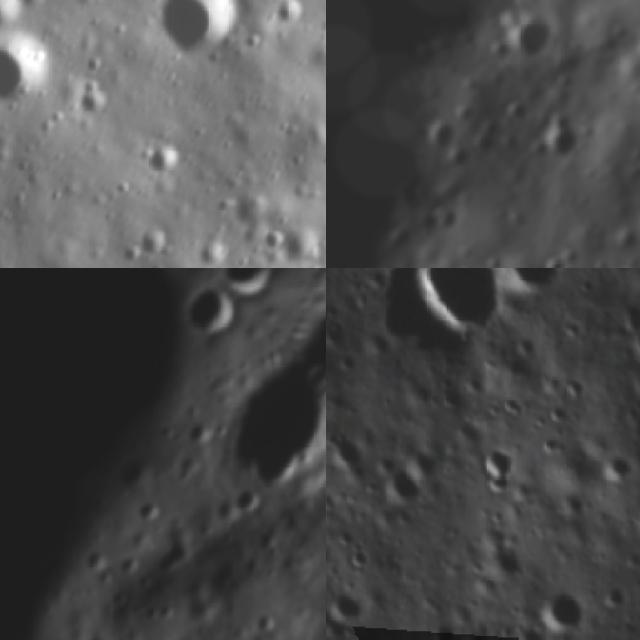crater: (197, 338, 326, 516), (379, 268, 525, 360), (170, 272, 250, 352), (151, 0, 240, 51), (528, 573, 595, 640), (143, 525, 205, 587), (487, 268, 575, 311), (467, 436, 526, 499), (66, 534, 126, 593), (379, 452, 432, 509), (0, 42, 44, 106), (328, 423, 376, 480), (542, 96, 576, 164), (127, 214, 168, 266), (128, 492, 174, 538), (144, 141, 196, 180), (246, 601, 292, 640), (518, 13, 548, 58), (114, 554, 147, 588), (427, 114, 452, 146), (0, 0, 25, 25), (528, 253, 567, 268), (74, 625, 113, 640)
